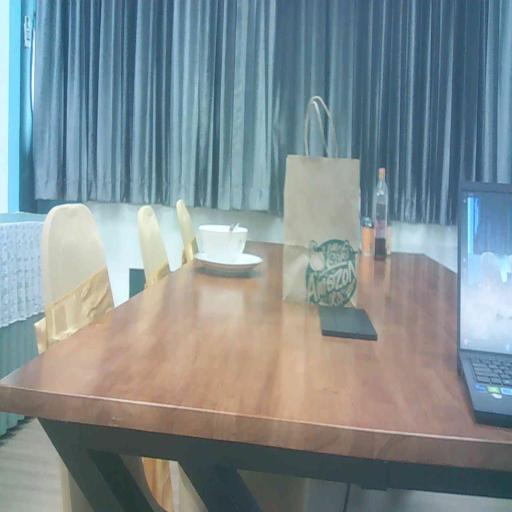bag: (285, 149, 363, 317)
